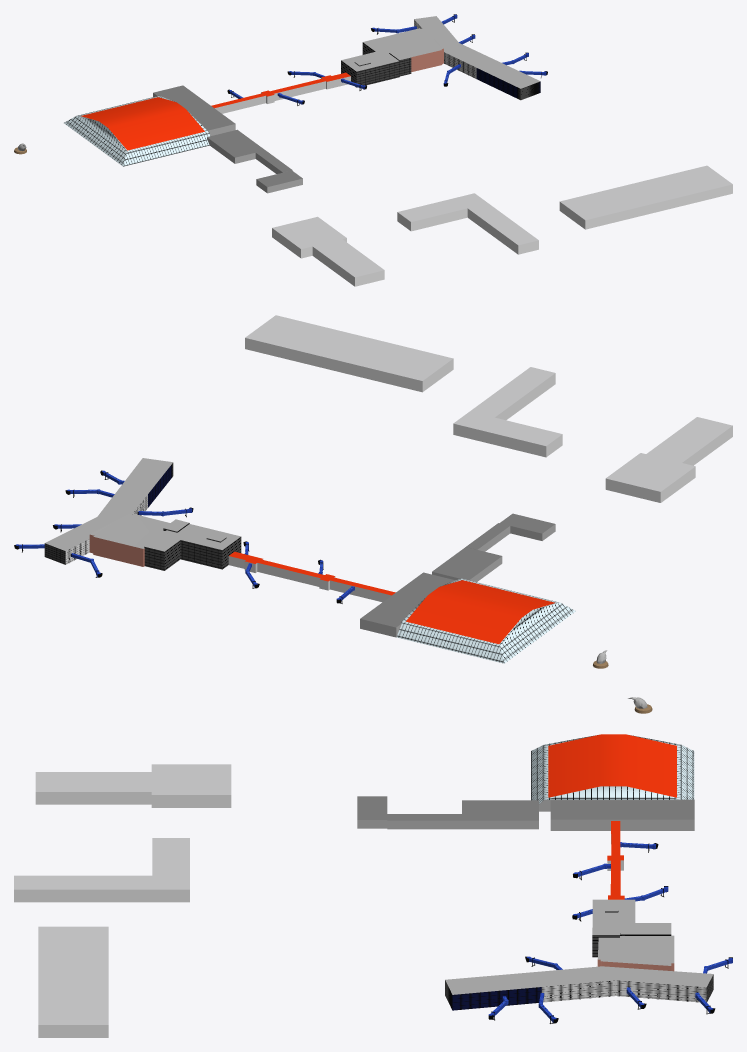
Rendered from BIKF.gltf.
3 views of the same model, one above another, from view 1: azimuth 30°, elevation 25°; view 2: azimuth 150°, elevation 25°; view 3: azimuth 270°, elevation 25° (orthographic). The views are drawn at different scales.
Visible parts, largest first — view 1: Merged Objects 1, Buffer Object 11, Buffer Object 1, Buffer Object 2, Buffer Object 3, Buffer Object 7, Buffer Object 9, Buffer Object 10, Buffer Object 8, Merged Objects 9, Buffer Object 4, Buffer Object 5 (+4 smaller); view 2: Merged Objects 1, Buffer Object 11, Buffer Object 1, Buffer Object 2, Buffer Object 3, Buffer Object 7, Buffer Object 9, Buffer Object 10, Buffer Object 8, Merged Objects 9, Buffer Object 4, Buffer Object 5 (+3 smaller); view 3: Merged Objects 1, Buffer Object 11, Buffer Object 1, Buffer Object 2, Buffer Object 7, Buffer Object 9, Buffer Object, Buffer Object 3, Merged Objects 8, Buffer Object 4, Buffer Object 8, Merged Objects 2 (+2 smaller).
Boxes of the visible parts, <box> form: Merged Objects 1: <box>341,16,540,88</box>; Buffer Object 11: <box>560,165,732,220</box>; Buffer Object 1: <box>81,97,204,150</box>; Buffer Object 2: <box>153,85,302,186</box>; Buffer Object 3: <box>64,96,210,166</box>; Buffer Object 7: <box>272,216,384,277</box>; Buffer Object 9: <box>398,193,538,245</box>; Buffer Object 10: <box>559,184,732,229</box>; Buffer Object 8: <box>397,208,538,254</box>; Merged Objects 9: <box>341,42,411,87</box>; Buffer Object 4: <box>272,228,384,286</box>; Buffer Object 5: <box>215,76,350,113</box>; Merged Objects 1: <box>45,458,240,551</box>; Buffer Object 11: <box>245,315,453,380</box>; Buffer Object 1: <box>406,580,555,644</box>; Buffer Object 2: <box>360,513,554,627</box>; Buffer Object 3: <box>396,578,575,663</box>; Buffer Object 7: <box>606,417,732,491</box>; Buffer Object 9: <box>453,367,562,445</box>; Buffer Object 10: <box>245,338,453,392</box>; Buffer Object 8: <box>453,373,562,457</box>; Merged Objects 9: <box>144,523,241,570</box>; Buffer Object 4: <box>605,426,732,502</box>; Buffer Object 5: <box>228,556,391,602</box>; Merged Objects 1: <box>445,899,713,994</box>; Buffer Object 11: <box>38,926,108,1024</box>; Buffer Object 1: <box>548,734,676,797</box>; Buffer Object 2: <box>357,796,694,820</box>; Buffer Object 7: <box>35,764,231,794</box>; Buffer Object 9: <box>14,838,189,889</box>; Buffer Object: <box>357,800,694,830</box>; Buffer Object 3: <box>531,735,694,803</box>; Merged Objects 8: <box>541,980,706,1002</box>; Buffer Object 4: <box>35,792,231,807</box>; Buffer Object 8: <box>14,889,189,902</box>; Merged Objects 2: <box>445,980,541,1010</box>.
Bounding box in the file's own units: 21.37 × 0.7203 × 19.57.
33 materials, 11 textured.
